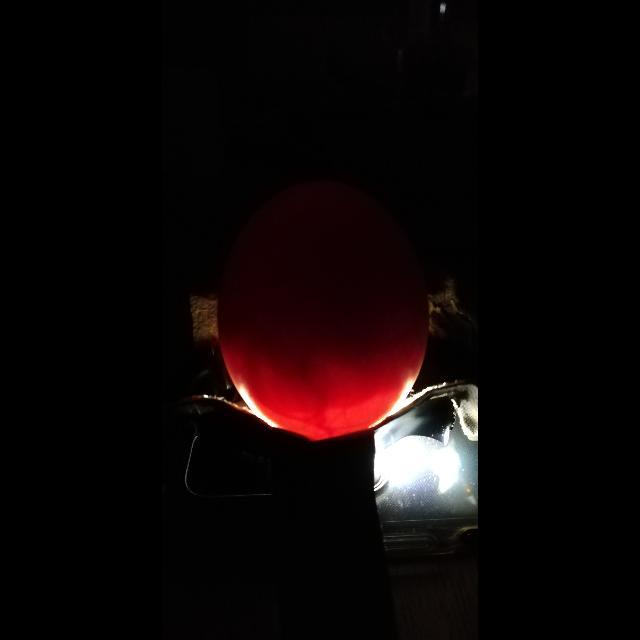Fertile: (212, 159, 432, 443)
